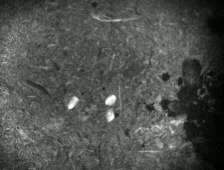corn: (65, 93, 81, 111), (104, 105, 116, 123), (103, 93, 117, 108)
